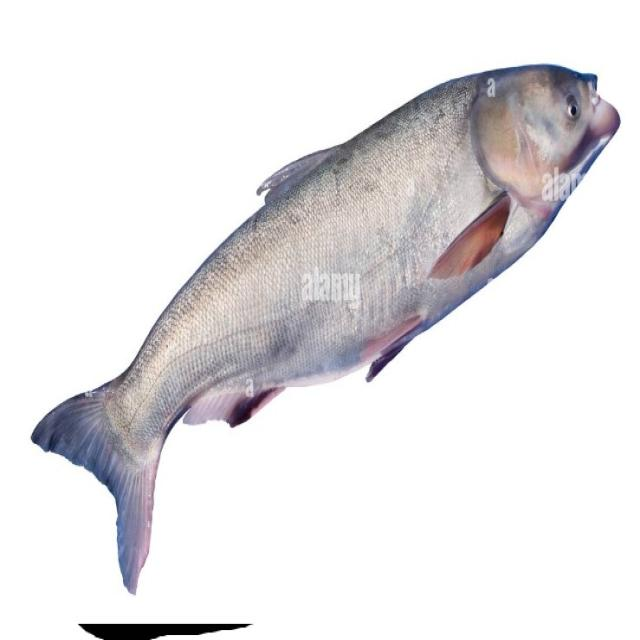Big-Head-Carp: (16, 12, 632, 628)
